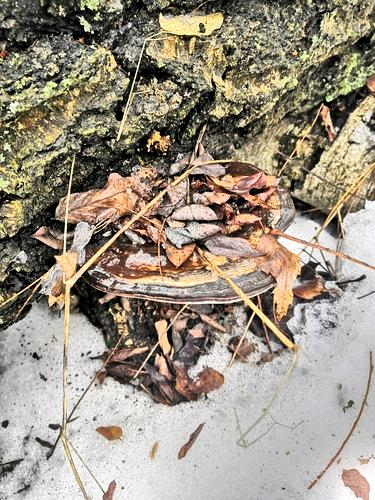Ganoderma - Fruit Body: (76, 224, 280, 303)
